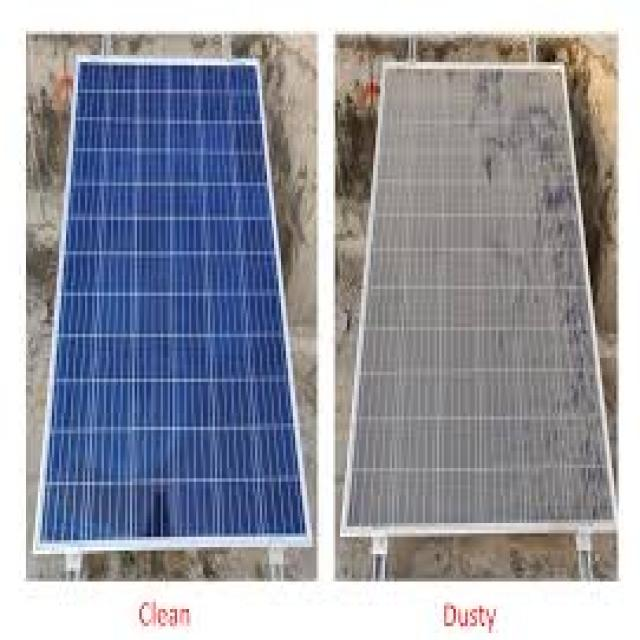faulty: (372, 80, 594, 540)
no faulty: (57, 83, 281, 525)
